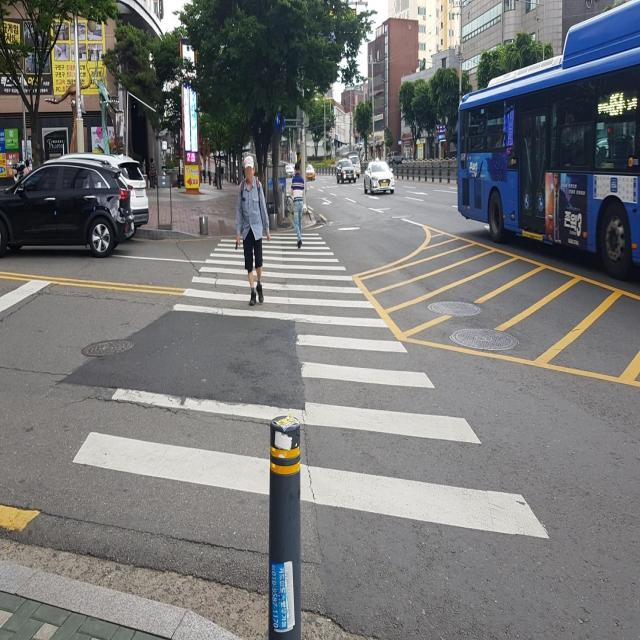횡단보도: (69, 227, 553, 546)
